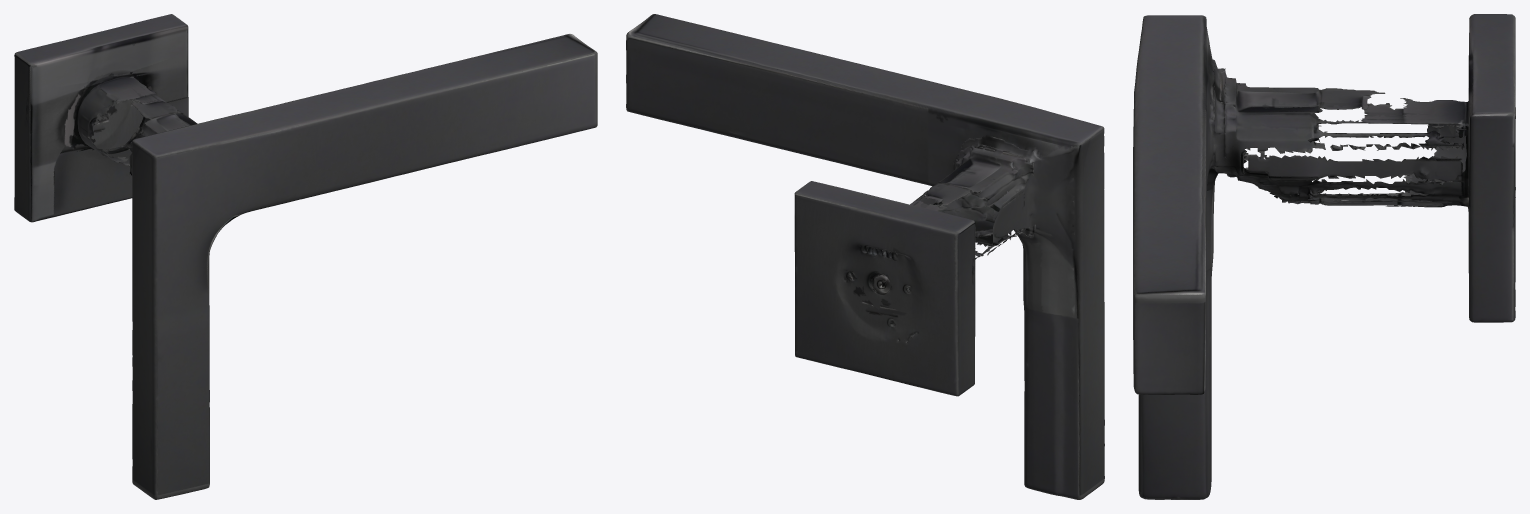
File: minimalistischer-griff.glb
3 views of the same model, side by side, from view 1: azimuth 30°, elevation 25°; view 2: azimuth 150°, elevation 25°; view 3: azimuth 270°, elevation 25° (orthographic). The views are drawn at different scales.
Bounding box in the file's own units: 2 × 1.51 × 1.15.
Materials: 1 (1 with a texture image).
